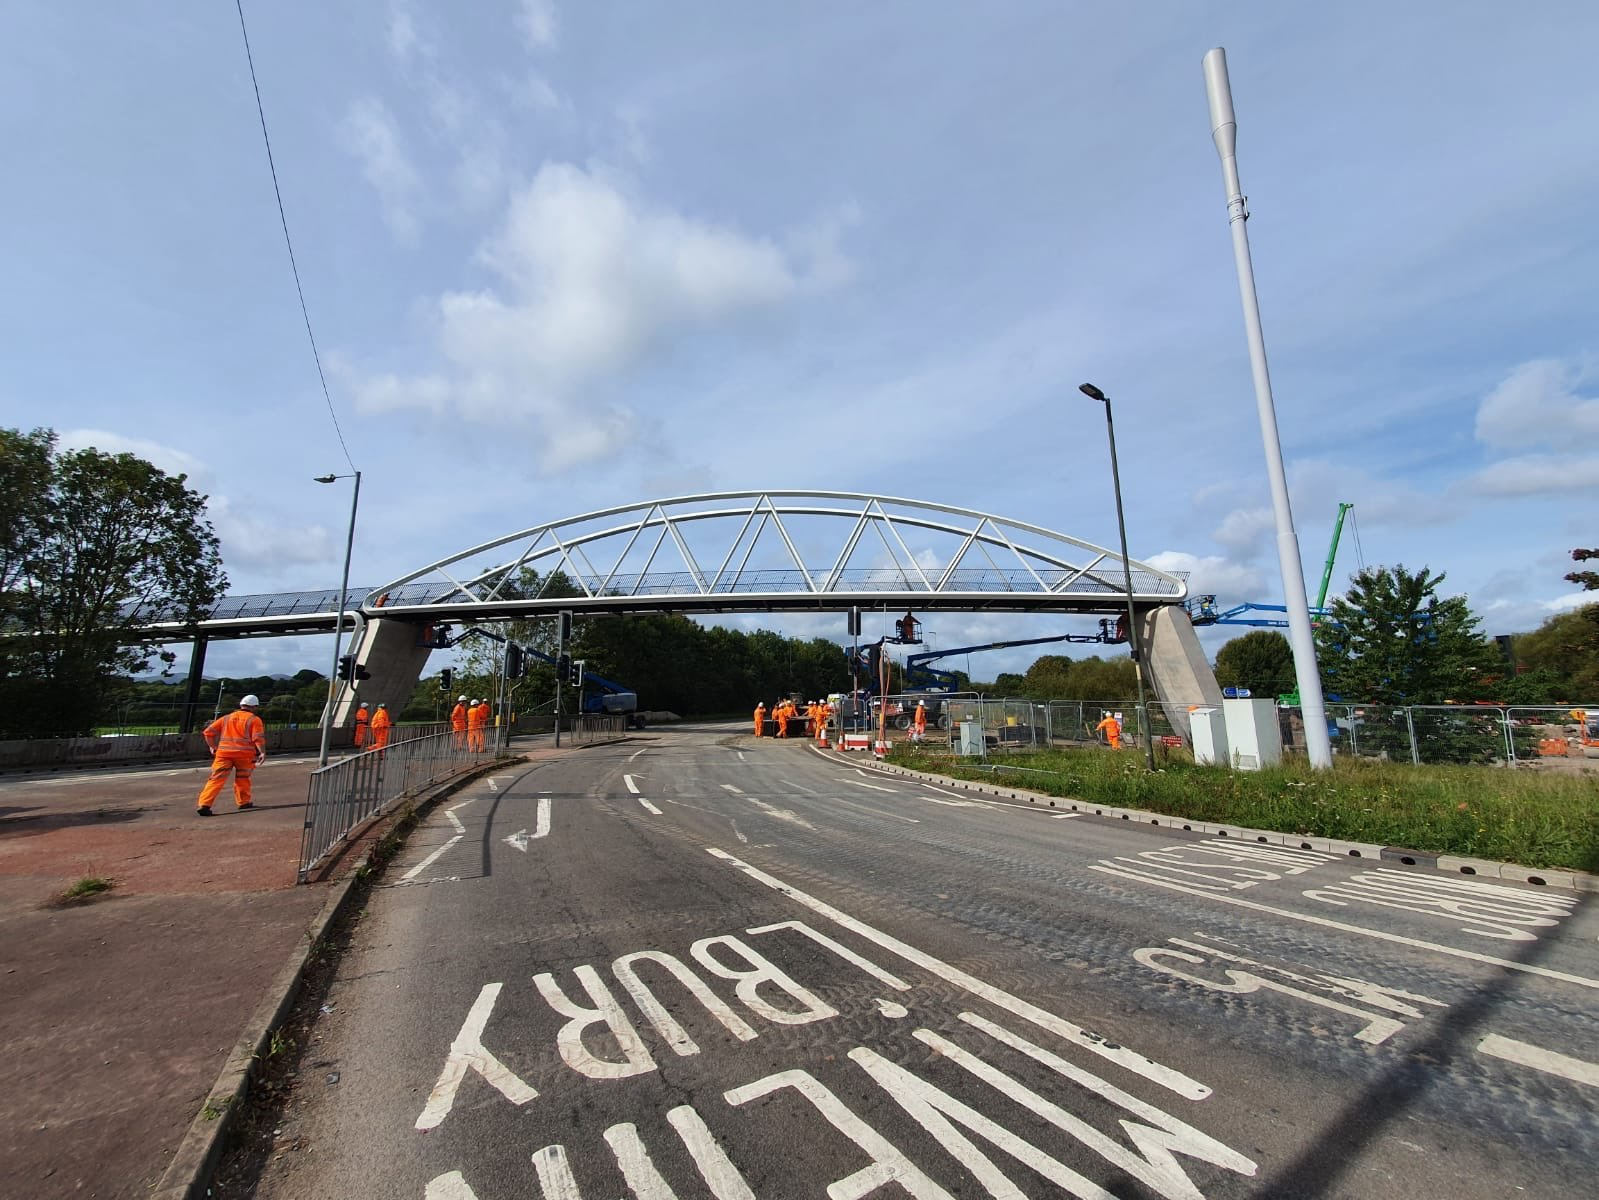bridge: (372, 492, 1191, 630)
